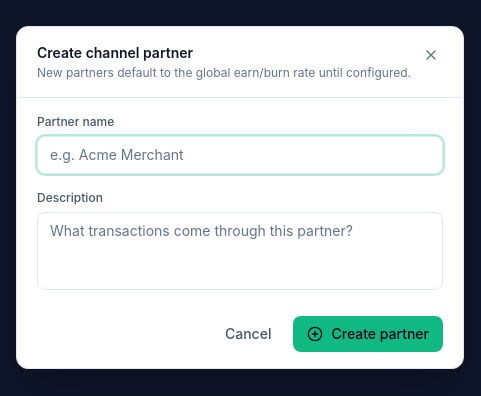
Test case: CreatePartnerModal › clears validation error on successful submission
// First attempt without name
Click the button "Create partner" at (368,334), box [294,316,443,352]
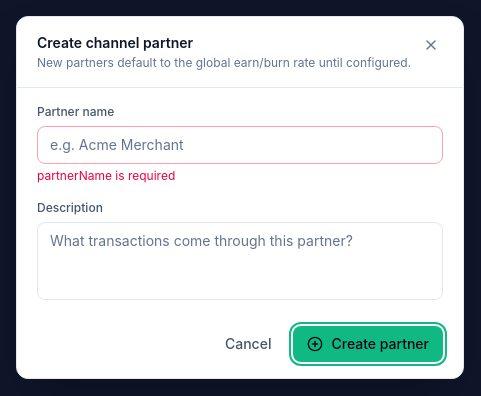
expect the text "partnerName is required" is shown: met, box [37,168,175,182]
// Second attempt with name
Type "Discover" into the field labelled "Partner name" at (240,144), box [37,126,443,164]
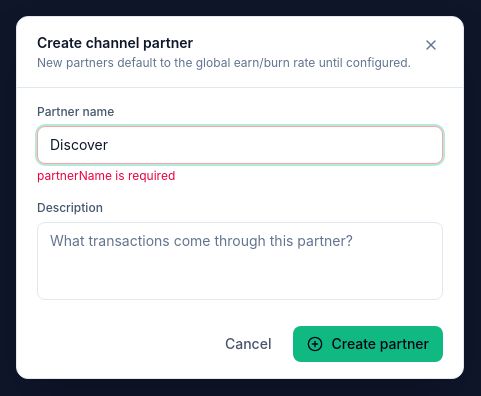
Click the button "Create partner" at (368,344), box [294,326,443,362]
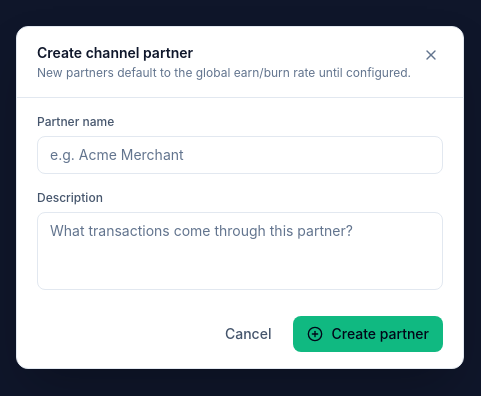
expect the text "partnerName is required" is gone: met
